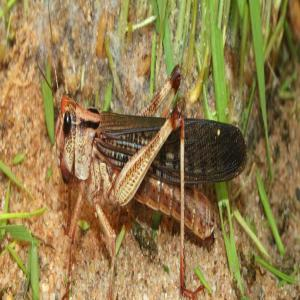locust: (47, 40, 251, 271)
